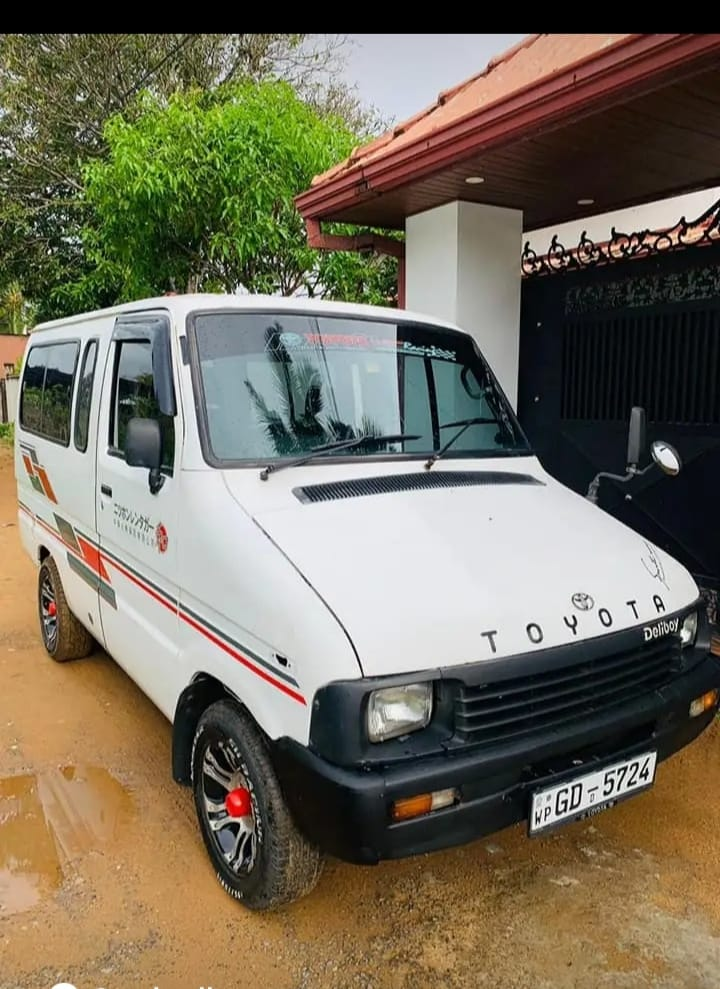number_plate: (532, 747, 662, 836)
